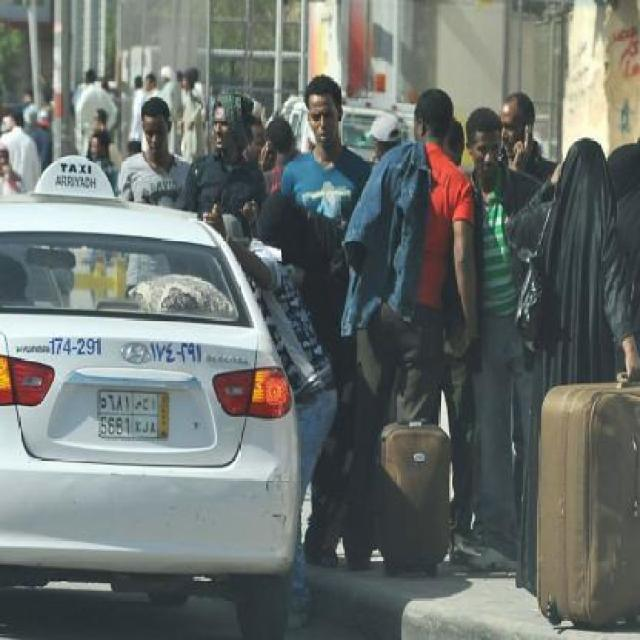license_plate: (95, 387, 171, 441)
